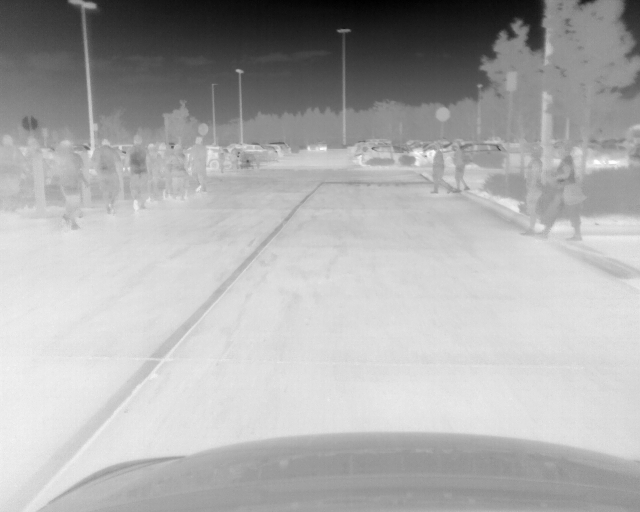car: (438, 142, 508, 169), (187, 146, 235, 170), (362, 146, 422, 165), (244, 144, 268, 153), (307, 141, 327, 151), (275, 144, 284, 160), (269, 147, 278, 161)
people: (539, 144, 585, 241), (56, 141, 85, 233), (519, 150, 544, 235), (91, 140, 118, 215), (23, 137, 49, 212), (1, 133, 25, 214), (126, 136, 147, 211), (188, 138, 207, 196), (430, 146, 452, 193), (452, 142, 471, 192), (169, 145, 186, 200), (148, 143, 163, 203)
